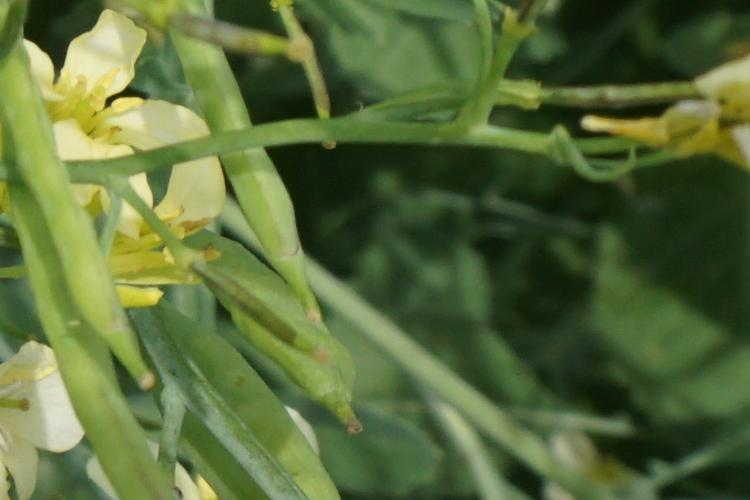pod: (186, 47, 357, 323), (180, 256, 392, 434), (29, 216, 156, 393), (271, 6, 359, 160), (178, 16, 320, 66)
white: (38, 40, 232, 225)
